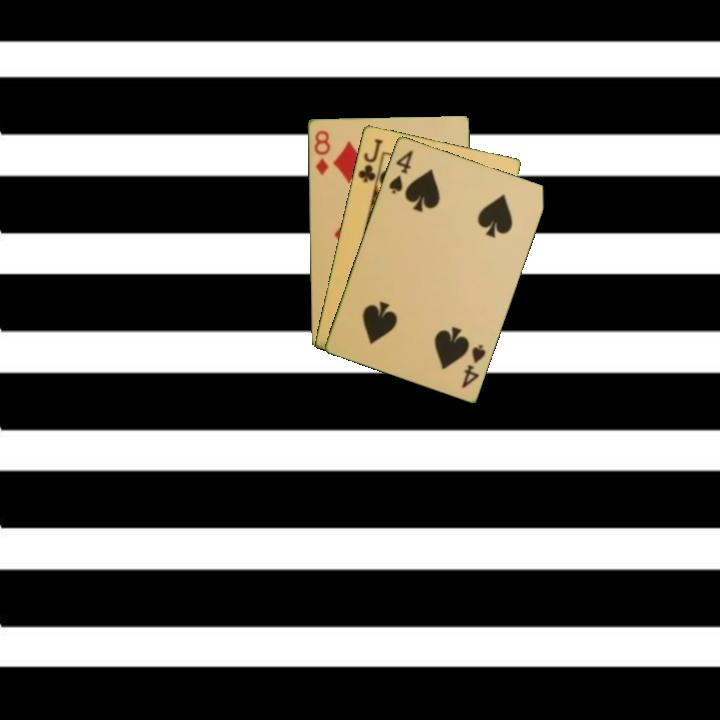4s: (385, 146, 416, 197), (458, 341, 488, 391)
8d: (311, 127, 333, 178)
Jc: (354, 135, 385, 185)
